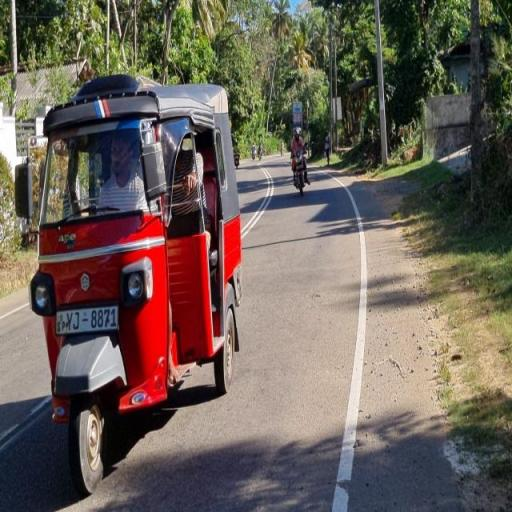double_white_line: (0, 394, 50, 450)
